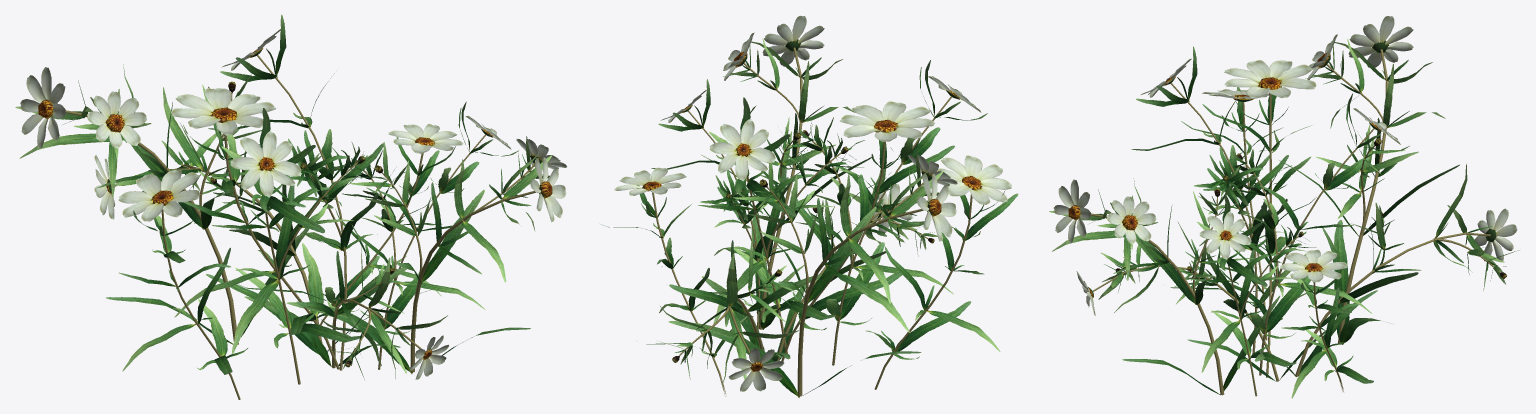
The picture shows the model from 3 angles, left to right: view 1: azimuth 30°, elevation 25°; view 2: azimuth 150°, elevation 25°; view 3: azimuth 270°, elevation 25°; orthographic projection. The views are drawn at different scales.
Parts seen in each view (by area): view 1: 07a518bb; view 2: 07a518bb; view 3: 07a518bb.
Part boxes in pixels (x1,y1,x2,y2): 07a518bb: (15,14,566,399); 07a518bb: (601,15,1018,397); 07a518bb: (1049,16,1519,398).
Size of the model in its own units: 0.1291 by 0.1019 by 0.1505.
6 materials, 4 textured.
